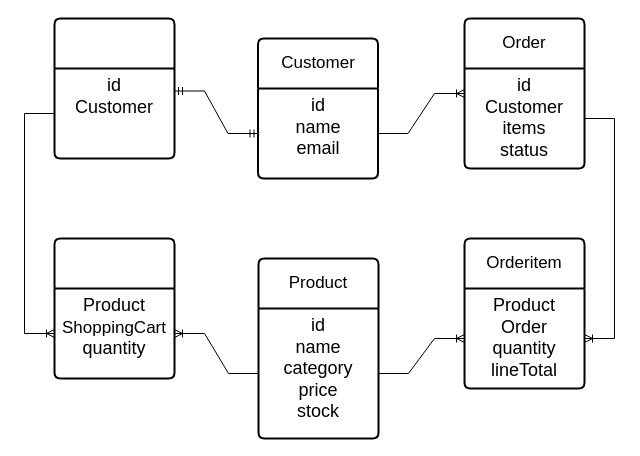
Image size: 640x456. Some labels were removed from this diagram. The box of each missing label's shape, as (x1, y1, x2, y2) in pixels:
Cartitem: (53, 237, 175, 379)
ShoppingCart: (53, 17, 175, 159)
